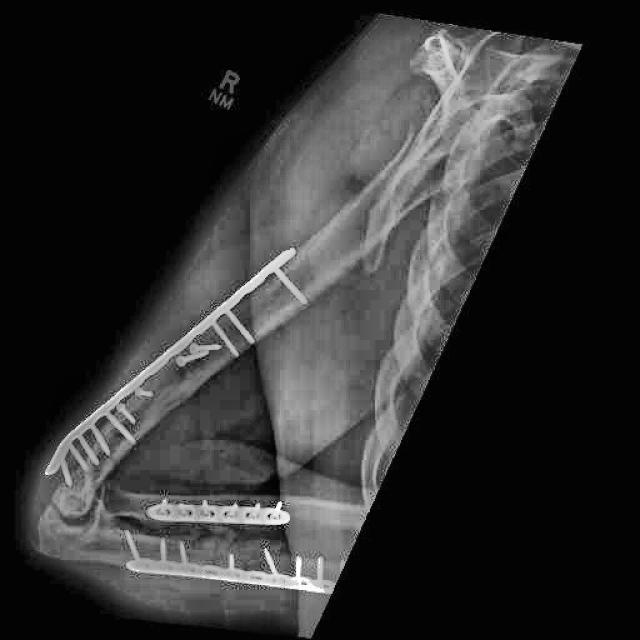humerus: (72, 368, 183, 489)
